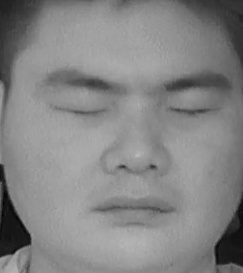blink: (57, 92, 111, 128), (169, 95, 218, 130)
mouth: (96, 185, 178, 230)
